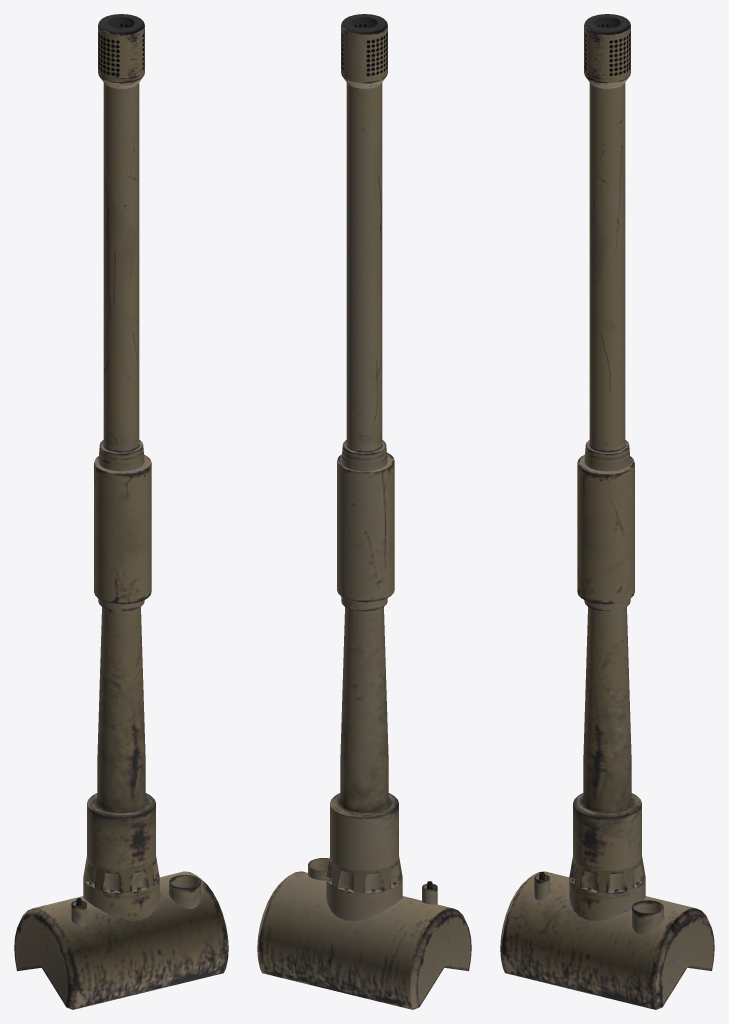
The model's file is Gun_03.glb.
3 renders of one model, left to right at view 1: azimuth 30°, elevation 25°; view 2: azimuth 150°, elevation 25°; view 3: azimuth 330°, elevation 25°, orthographic.
Visible parts, largest first — view 1: set_0_group_0; view 2: set_0_group_0; view 3: set_0_group_0.
Part boxes in pixels (x1,y1,x2,y2): set_0_group_0: (14,14,228,1009); set_0_group_0: (257,14,471,1009); set_0_group_0: (500,14,714,1009).
Bounding box in the file's own units: 0.8 × 4.54 × 0.52.
Materials: 1 (1 with a texture image).
